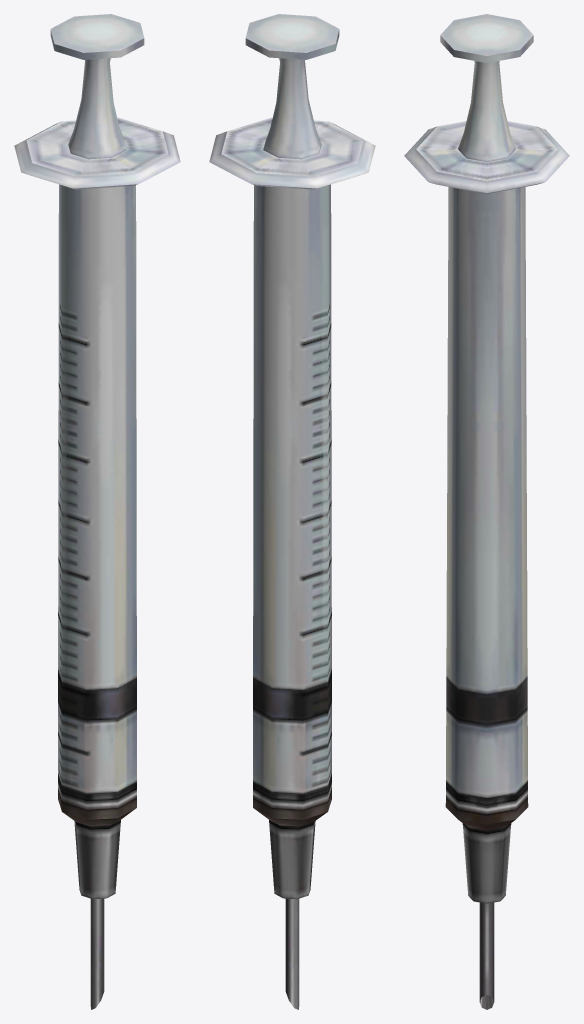
The model's file is Hero_Veronica_Cos18Halloween_Weapon_R.fbx.
3 views of the same model, side by side, from view 1: azimuth 30°, elevation 25°; view 2: azimuth 150°, elevation 25°; view 3: azimuth 270°, elevation 25° (orthographic).
Visible parts, largest first — view 1: Hero_Veronica_Cos18Halloween_Weapon_R; view 2: Hero_Veronica_Cos18Halloween_Weapon_R; view 3: Hero_Veronica_Cos18Halloween_Weapon_R.
Boxes of the visible parts, <box> form: Hero_Veronica_Cos18Halloween_Weapon_R: <box>14,14,180,1009</box>; Hero_Veronica_Cos18Halloween_Weapon_R: <box>209,14,375,1009</box>; Hero_Veronica_Cos18Halloween_Weapon_R: <box>404,14,569,1009</box>.
Size of the model in its own units: 0.0511 by 0.313 by 0.0479.
Materials: 1 (1 with a texture image).
